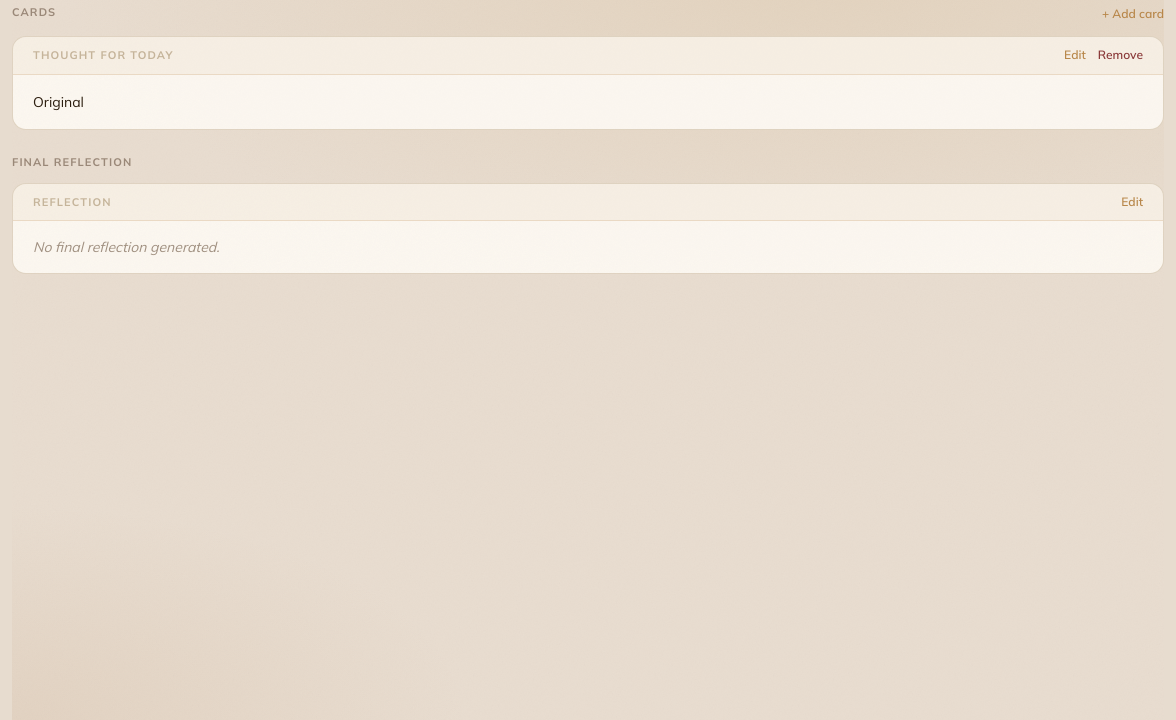
Test case: GardenContentEditor — editing › saves edited card content via PUT /api/gardens/:id
The width and height of the screenshot is (1176, 720).
Click the button "Edit" in the row of "Thought for Today": [1075, 55] box [1064,47,1086,63]
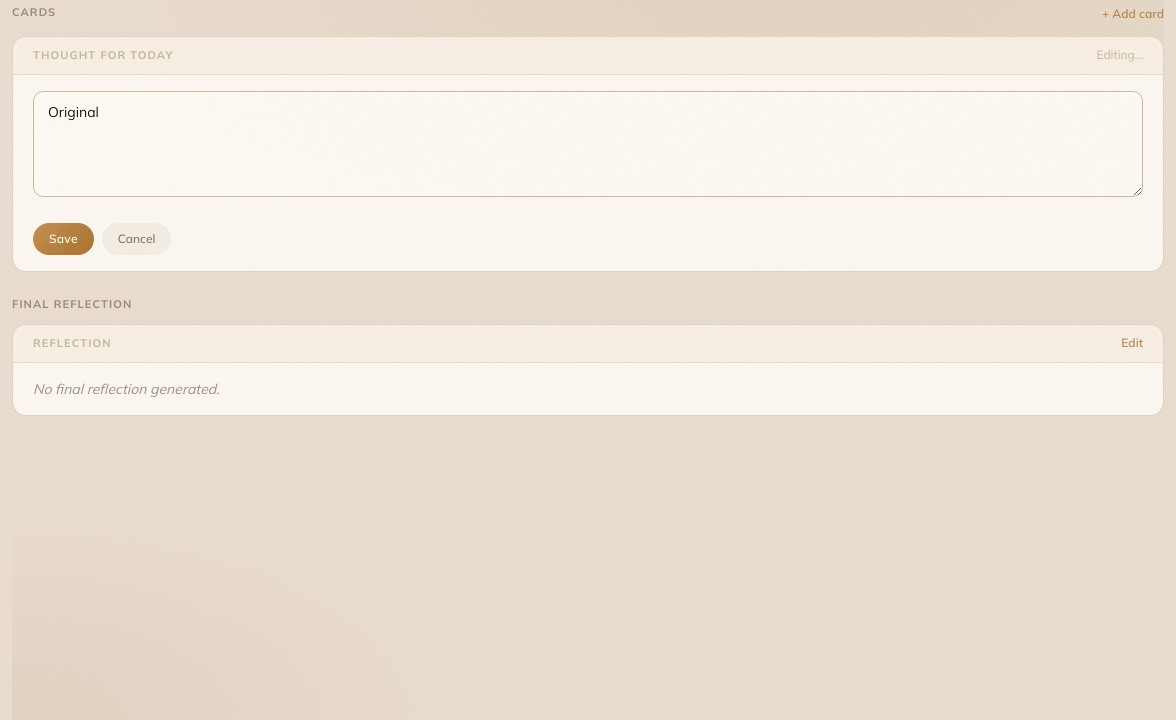
Replace the text in the text box showing "Original" with "Edited copy": [588, 144] box [33,90,1143,196]
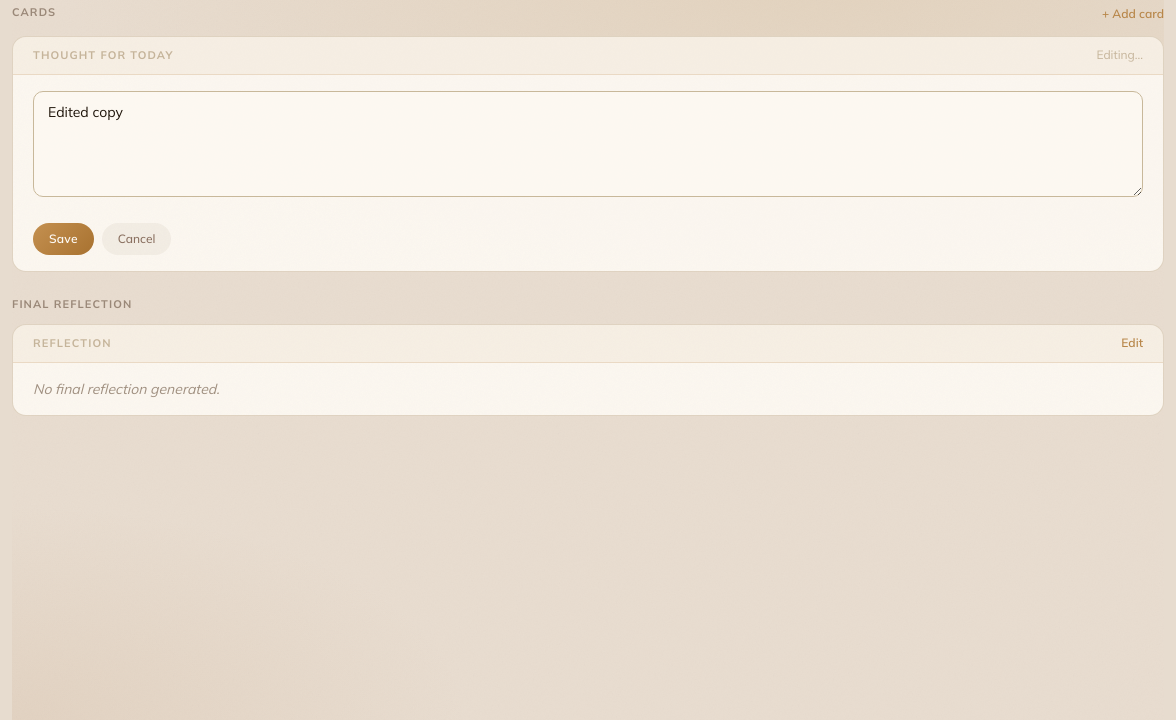
Click the button "Save": [63, 238] box [33,222,94,254]
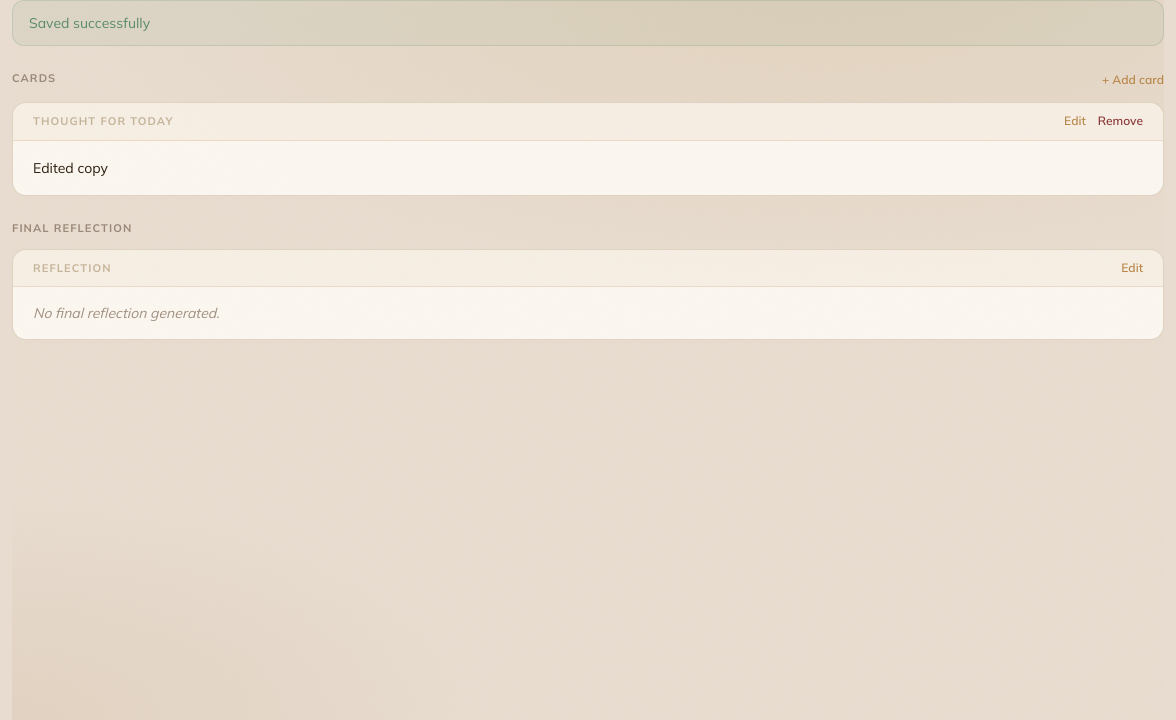
Check: the text "Edited copy" is shown, box [33,158,108,176]
